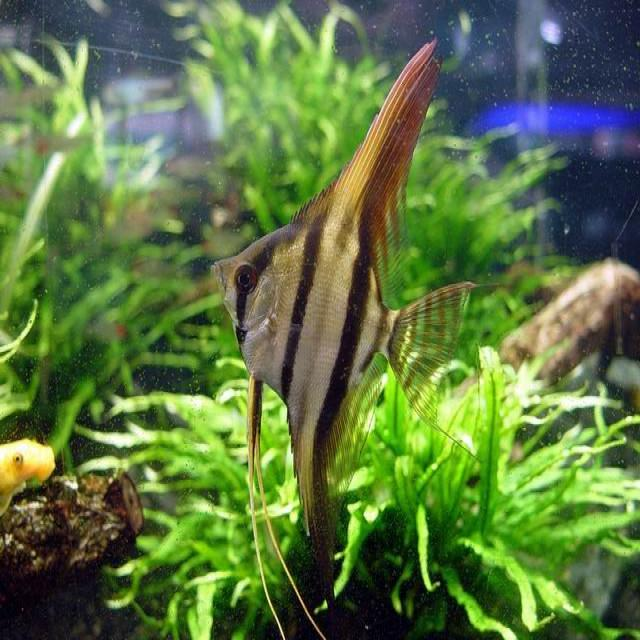AngelFish: (211, 42, 464, 565)
